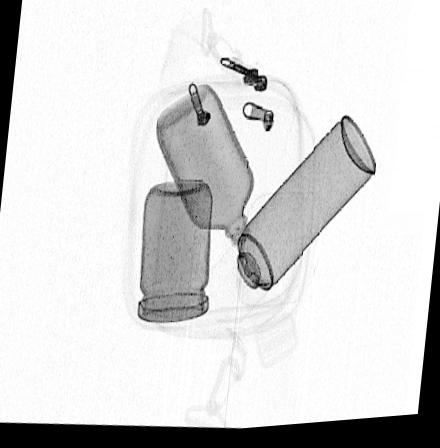Sprayer: (199, 120, 375, 332)
